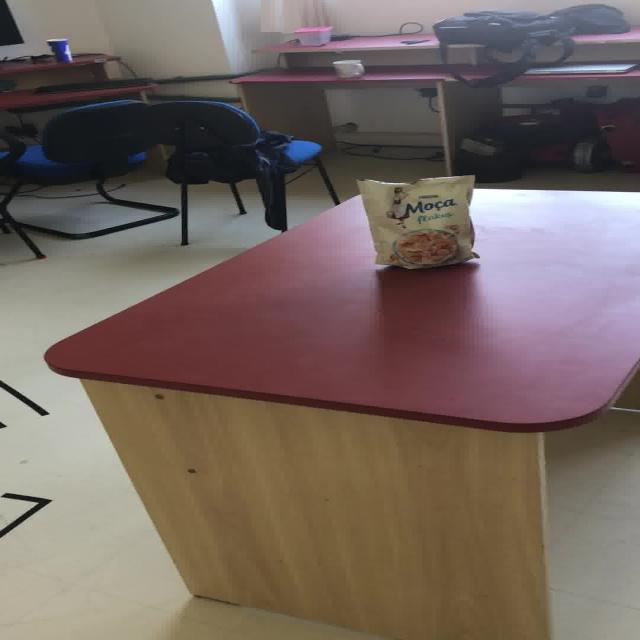corn flakes: (355, 174, 479, 269), (388, 228, 457, 265)
